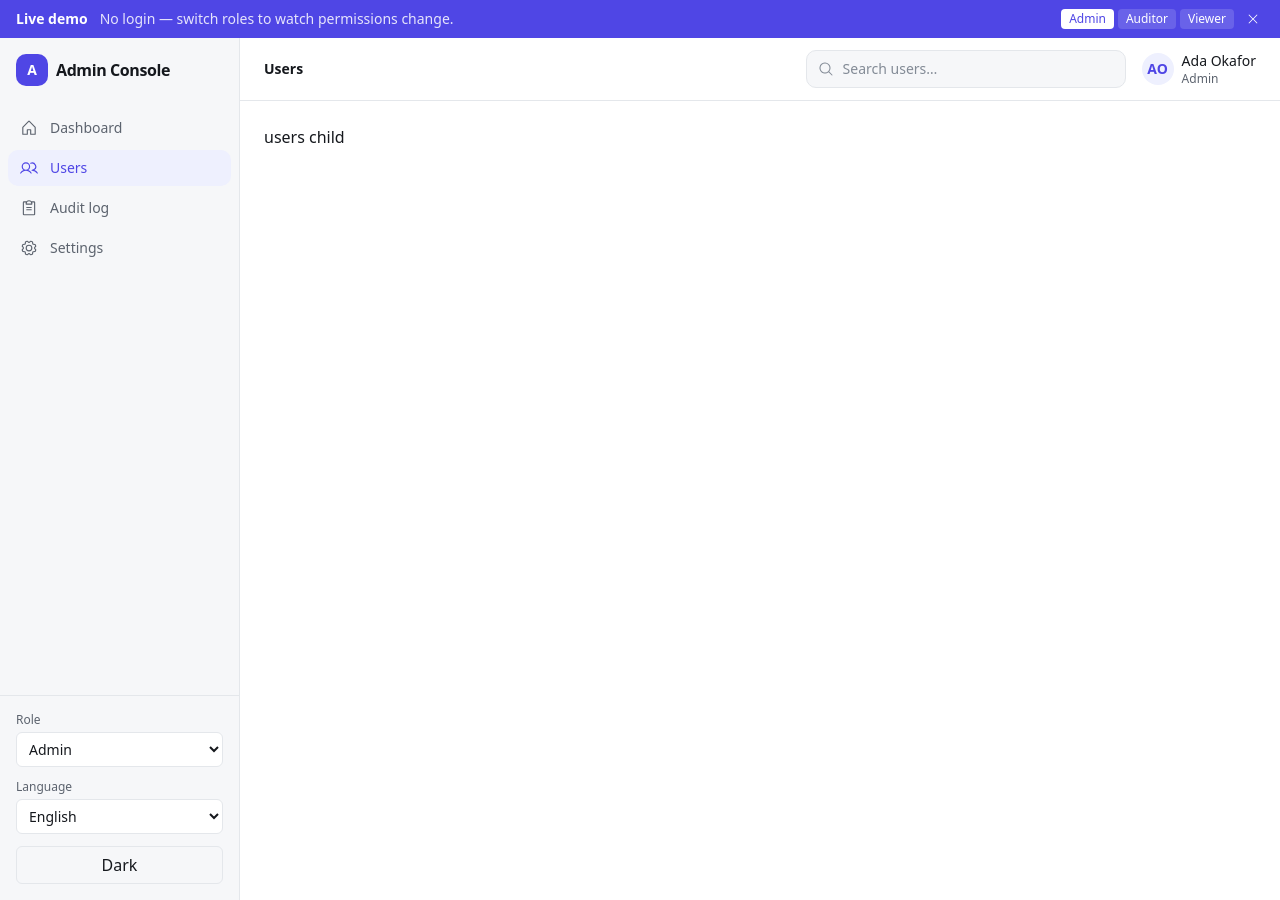
Test case: AppLayout › toggles the theme and switches language to Arabic (RTL)
The image size is (1280, 900).
// Toggle the theme first, while its aria-label is still English.
Click the button with aria-label "toggle theme". click: point(120, 865)
box: [16,846,223,884]
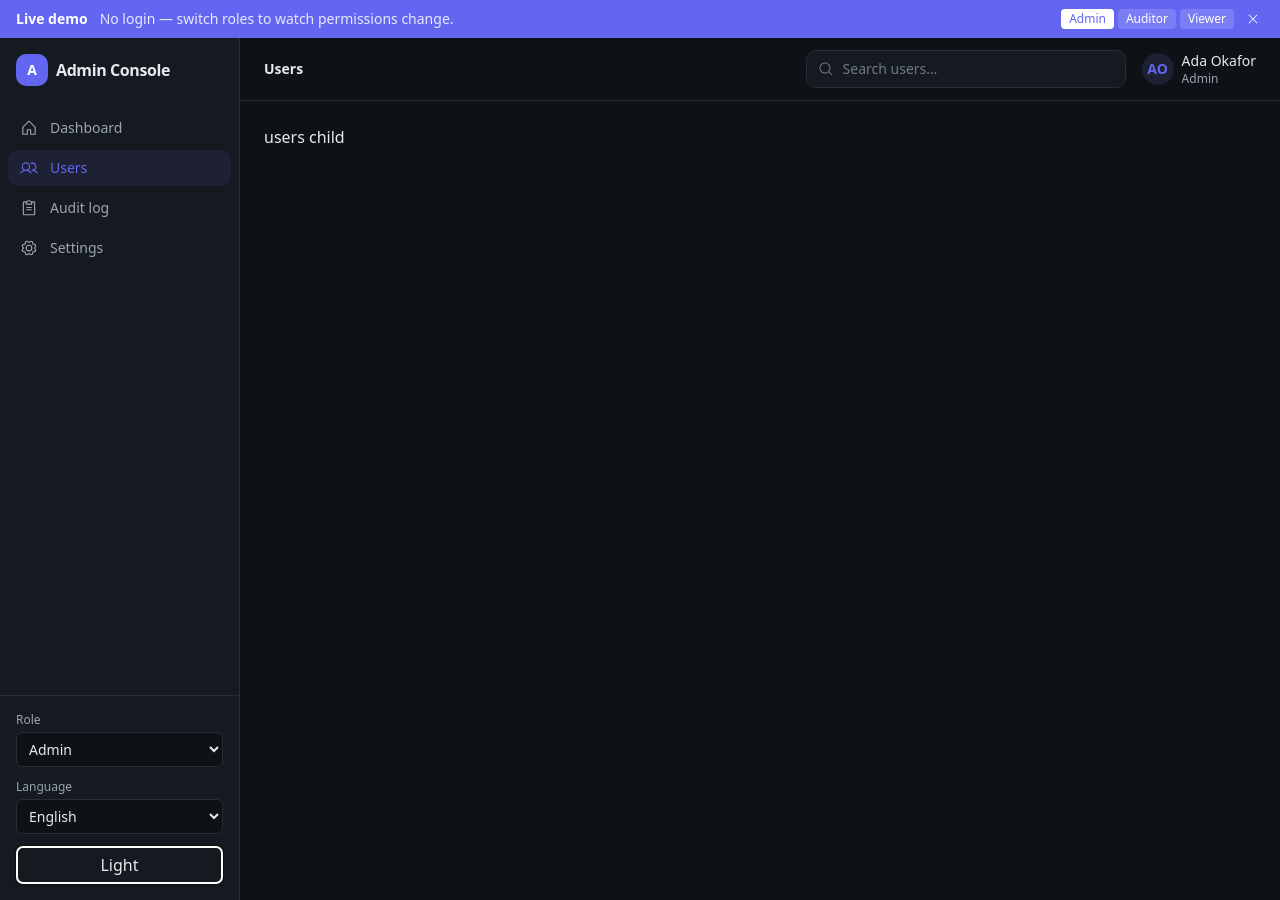
// Switching to Arabic translates the nav and flips the document direction.
Select "العربية" in the dropdown labelled "Language". click: point(120, 816)
box: [16,799,223,834]
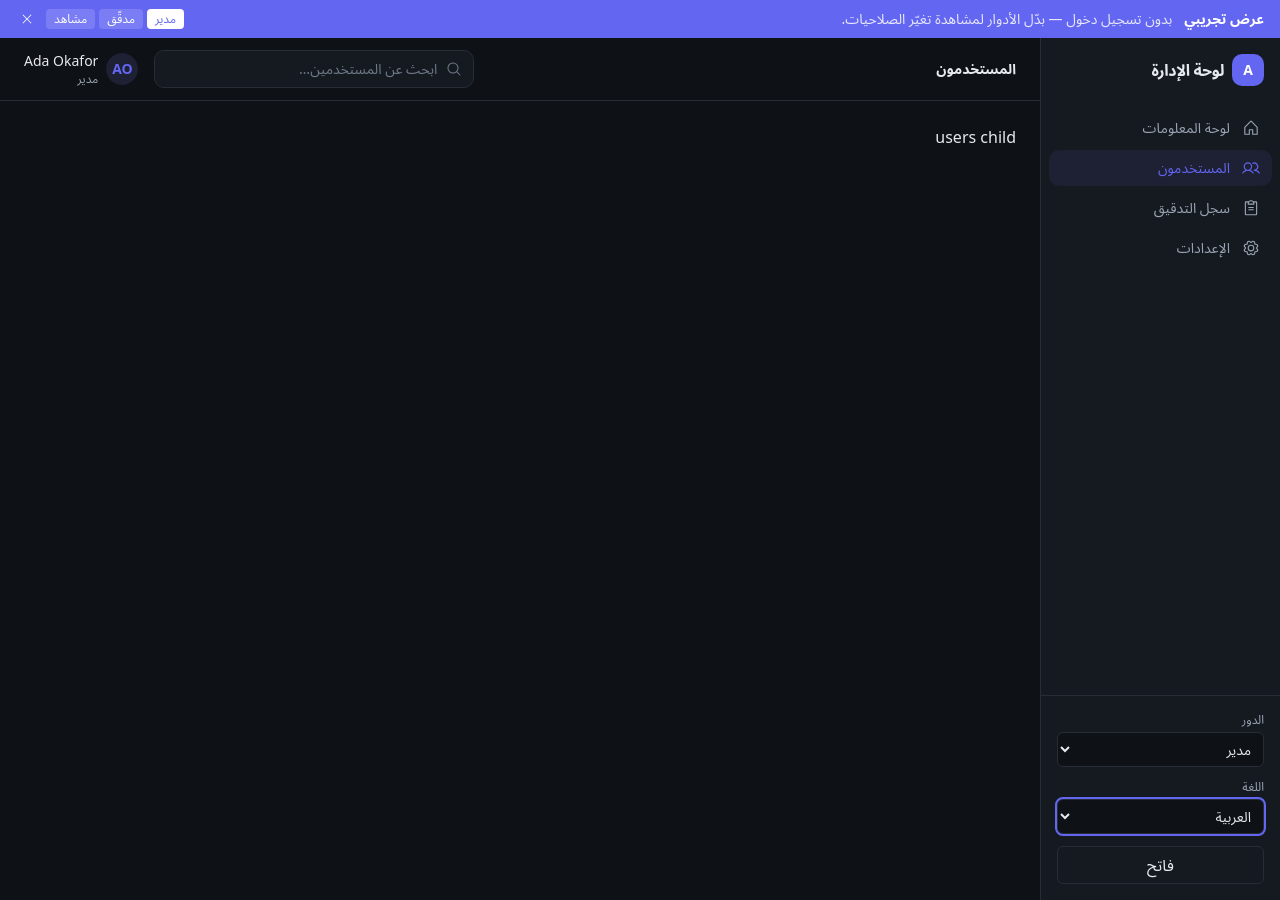
Result: the link "المستخدمون" is shown at [1049,150,1272,186]
